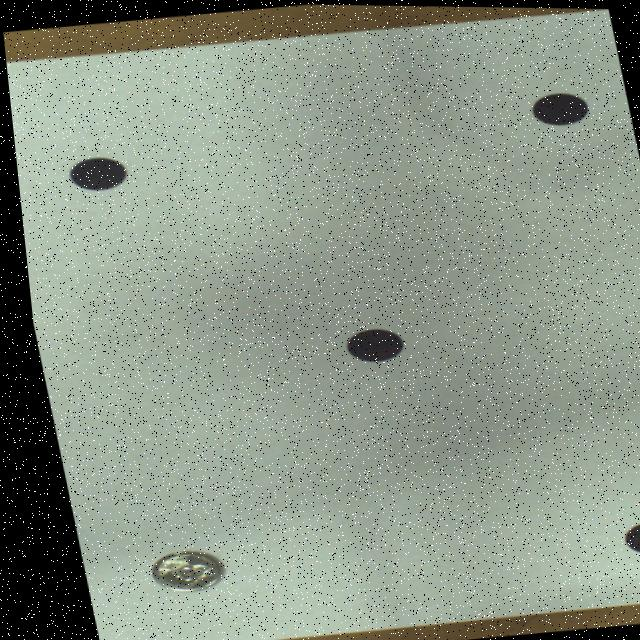head1bath: (139, 550, 211, 591)
space: (65, 157, 122, 190), (339, 327, 395, 360), (530, 91, 586, 123), (612, 520, 640, 552)
